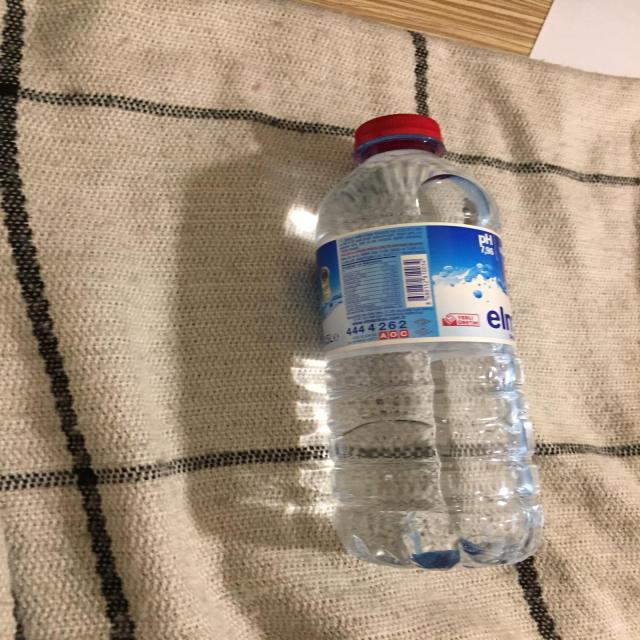bottle: (299, 110, 552, 586)
